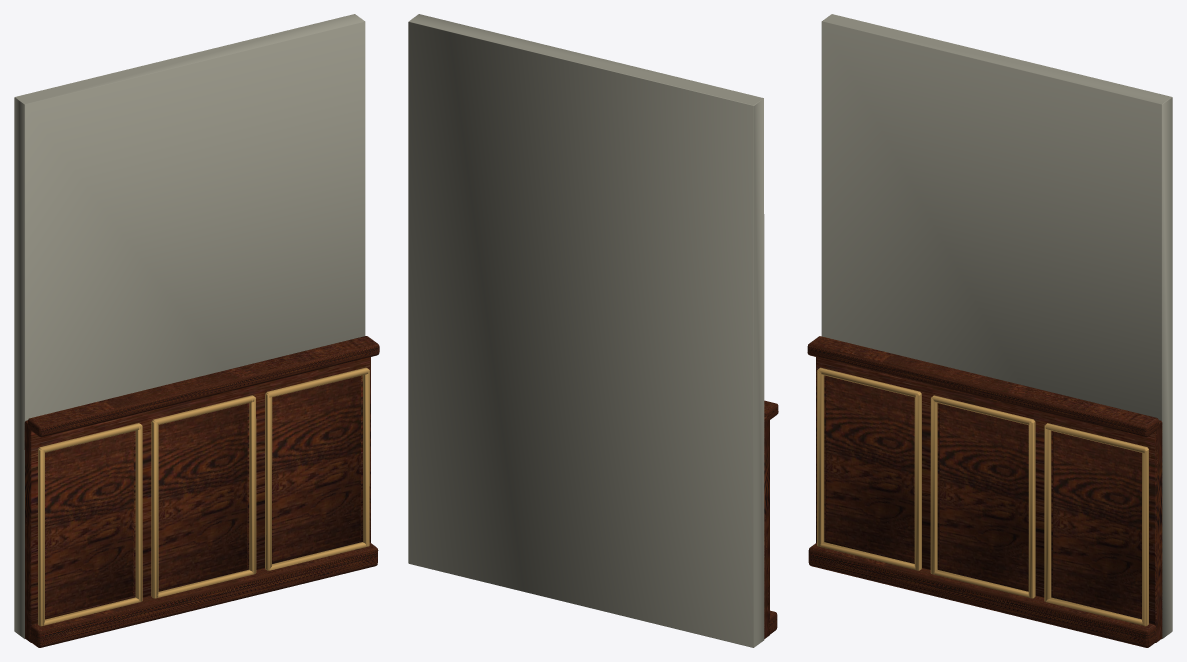
The model's file is wall-panel.glb.
3 views of the same model, side by side, from view 1: azimuth 30°, elevation 25°; view 2: azimuth 150°, elevation 25°; view 3: azimuth 330°, elevation 25° (orthographic).
Visible parts, largest first — view 1: wall-panel; view 2: wall-panel; view 3: wall-panel.
Boxes of the visible parts, x1,y1,x2,y2 form: wall-panel: [14, 14, 379, 647]; wall-panel: [408, 14, 778, 647]; wall-panel: [807, 14, 1172, 647].
Bounding box in the file's own units: 3 × 4.5 × 0.3893.
3 materials, 1 textured.
